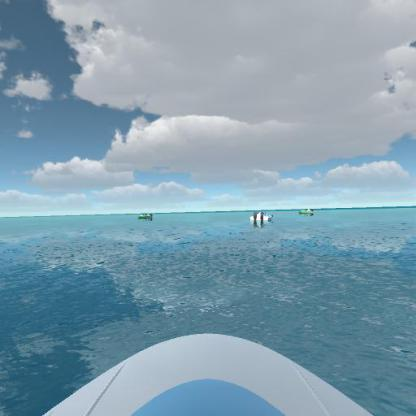usv0: (137, 210, 156, 223), (298, 208, 317, 218)
usv1: (246, 208, 275, 228)
